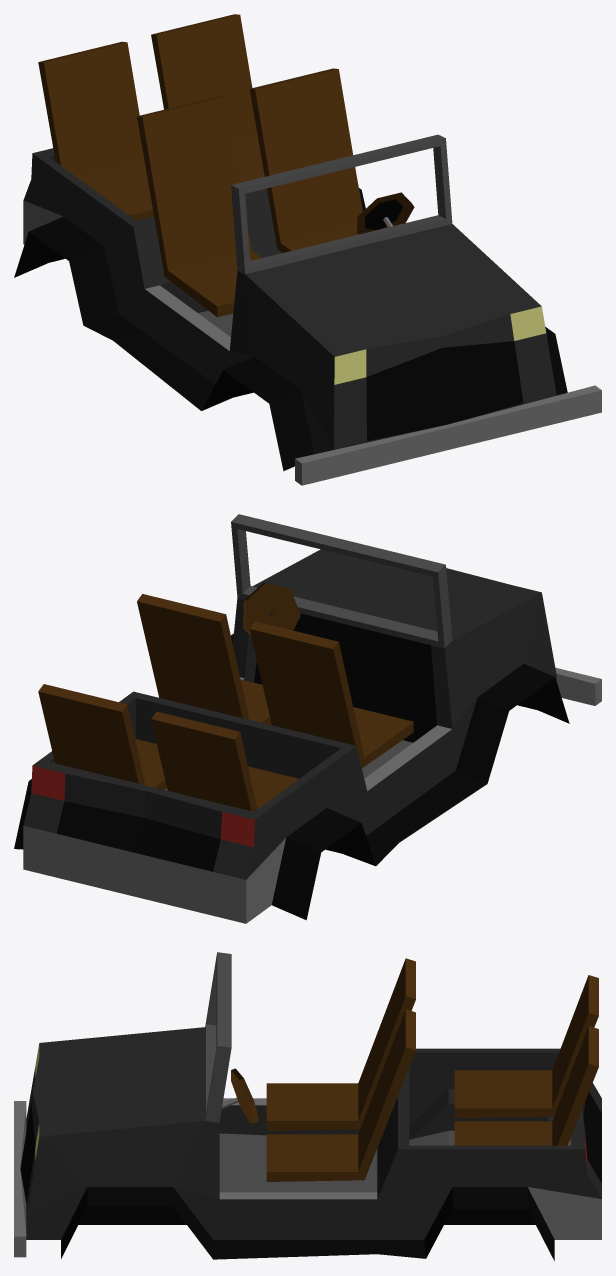
File: CarBodyOffroad.fbx
3 renders of one model, top to bottom at view 1: azimuth 30°, elevation 25°; view 2: azimuth 150°, elevation 25°; view 3: azimuth 270°, elevation 25°, orthographic. The views are drawn at different scales.
Visible parts, largest first — view 1: Car; view 2: Car; view 3: Car.
Boxes of the visible parts, x1,y1,x2,y2 form: Car: (14, 14, 601, 485); Car: (14, 514, 601, 923); Car: (14, 952, 601, 1260).
Size of the model in its own units: 219 by 148 by 400.
